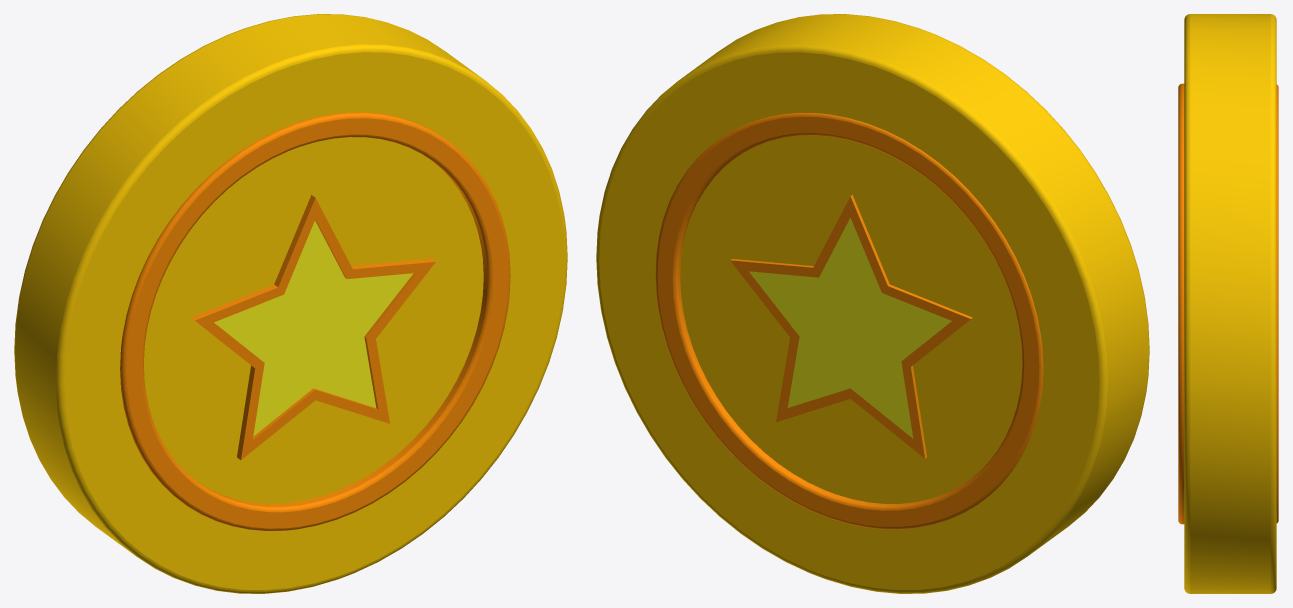
Rendered from coin_v2.fbx.
The picture shows the model from 3 angles, left to right: view 1: azimuth 30°, elevation 25°; view 2: azimuth 150°, elevation 25°; view 3: azimuth 270°, elevation 25°; orthographic projection.
Parts seen in each view (by area): view 1: star_stroke_1; view 2: star_stroke_1; view 3: star_stroke_1.
Boxes of the visible parts, bbox=[...] form: star_stroke_1: bbox=[14, 14, 567, 593]; star_stroke_1: bbox=[596, 14, 1149, 593]; star_stroke_1: bbox=[1178, 14, 1278, 593].
Size of the model in its own units: 288 by 288 by 50.
